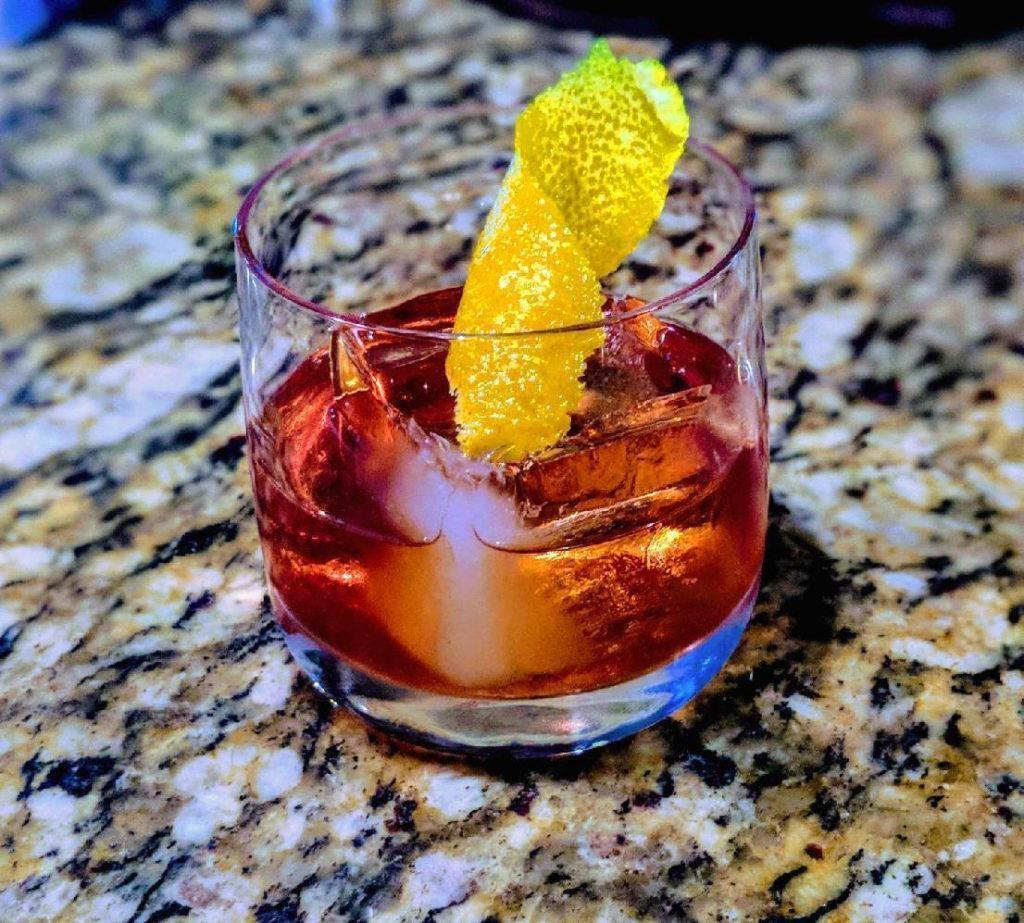glass-normal: (230, 112, 773, 765)
